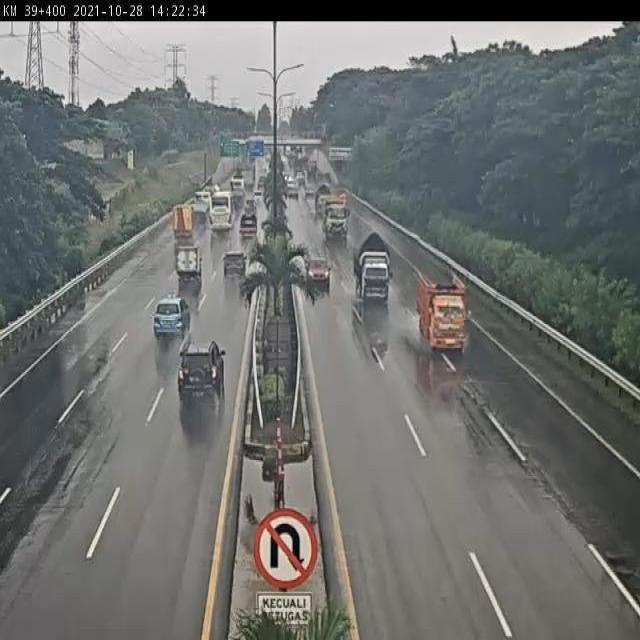car: (175, 243, 204, 283)
truck: (415, 267, 464, 352), (352, 228, 393, 308), (206, 189, 238, 236), (320, 196, 349, 243), (170, 201, 195, 243), (236, 211, 260, 240)
